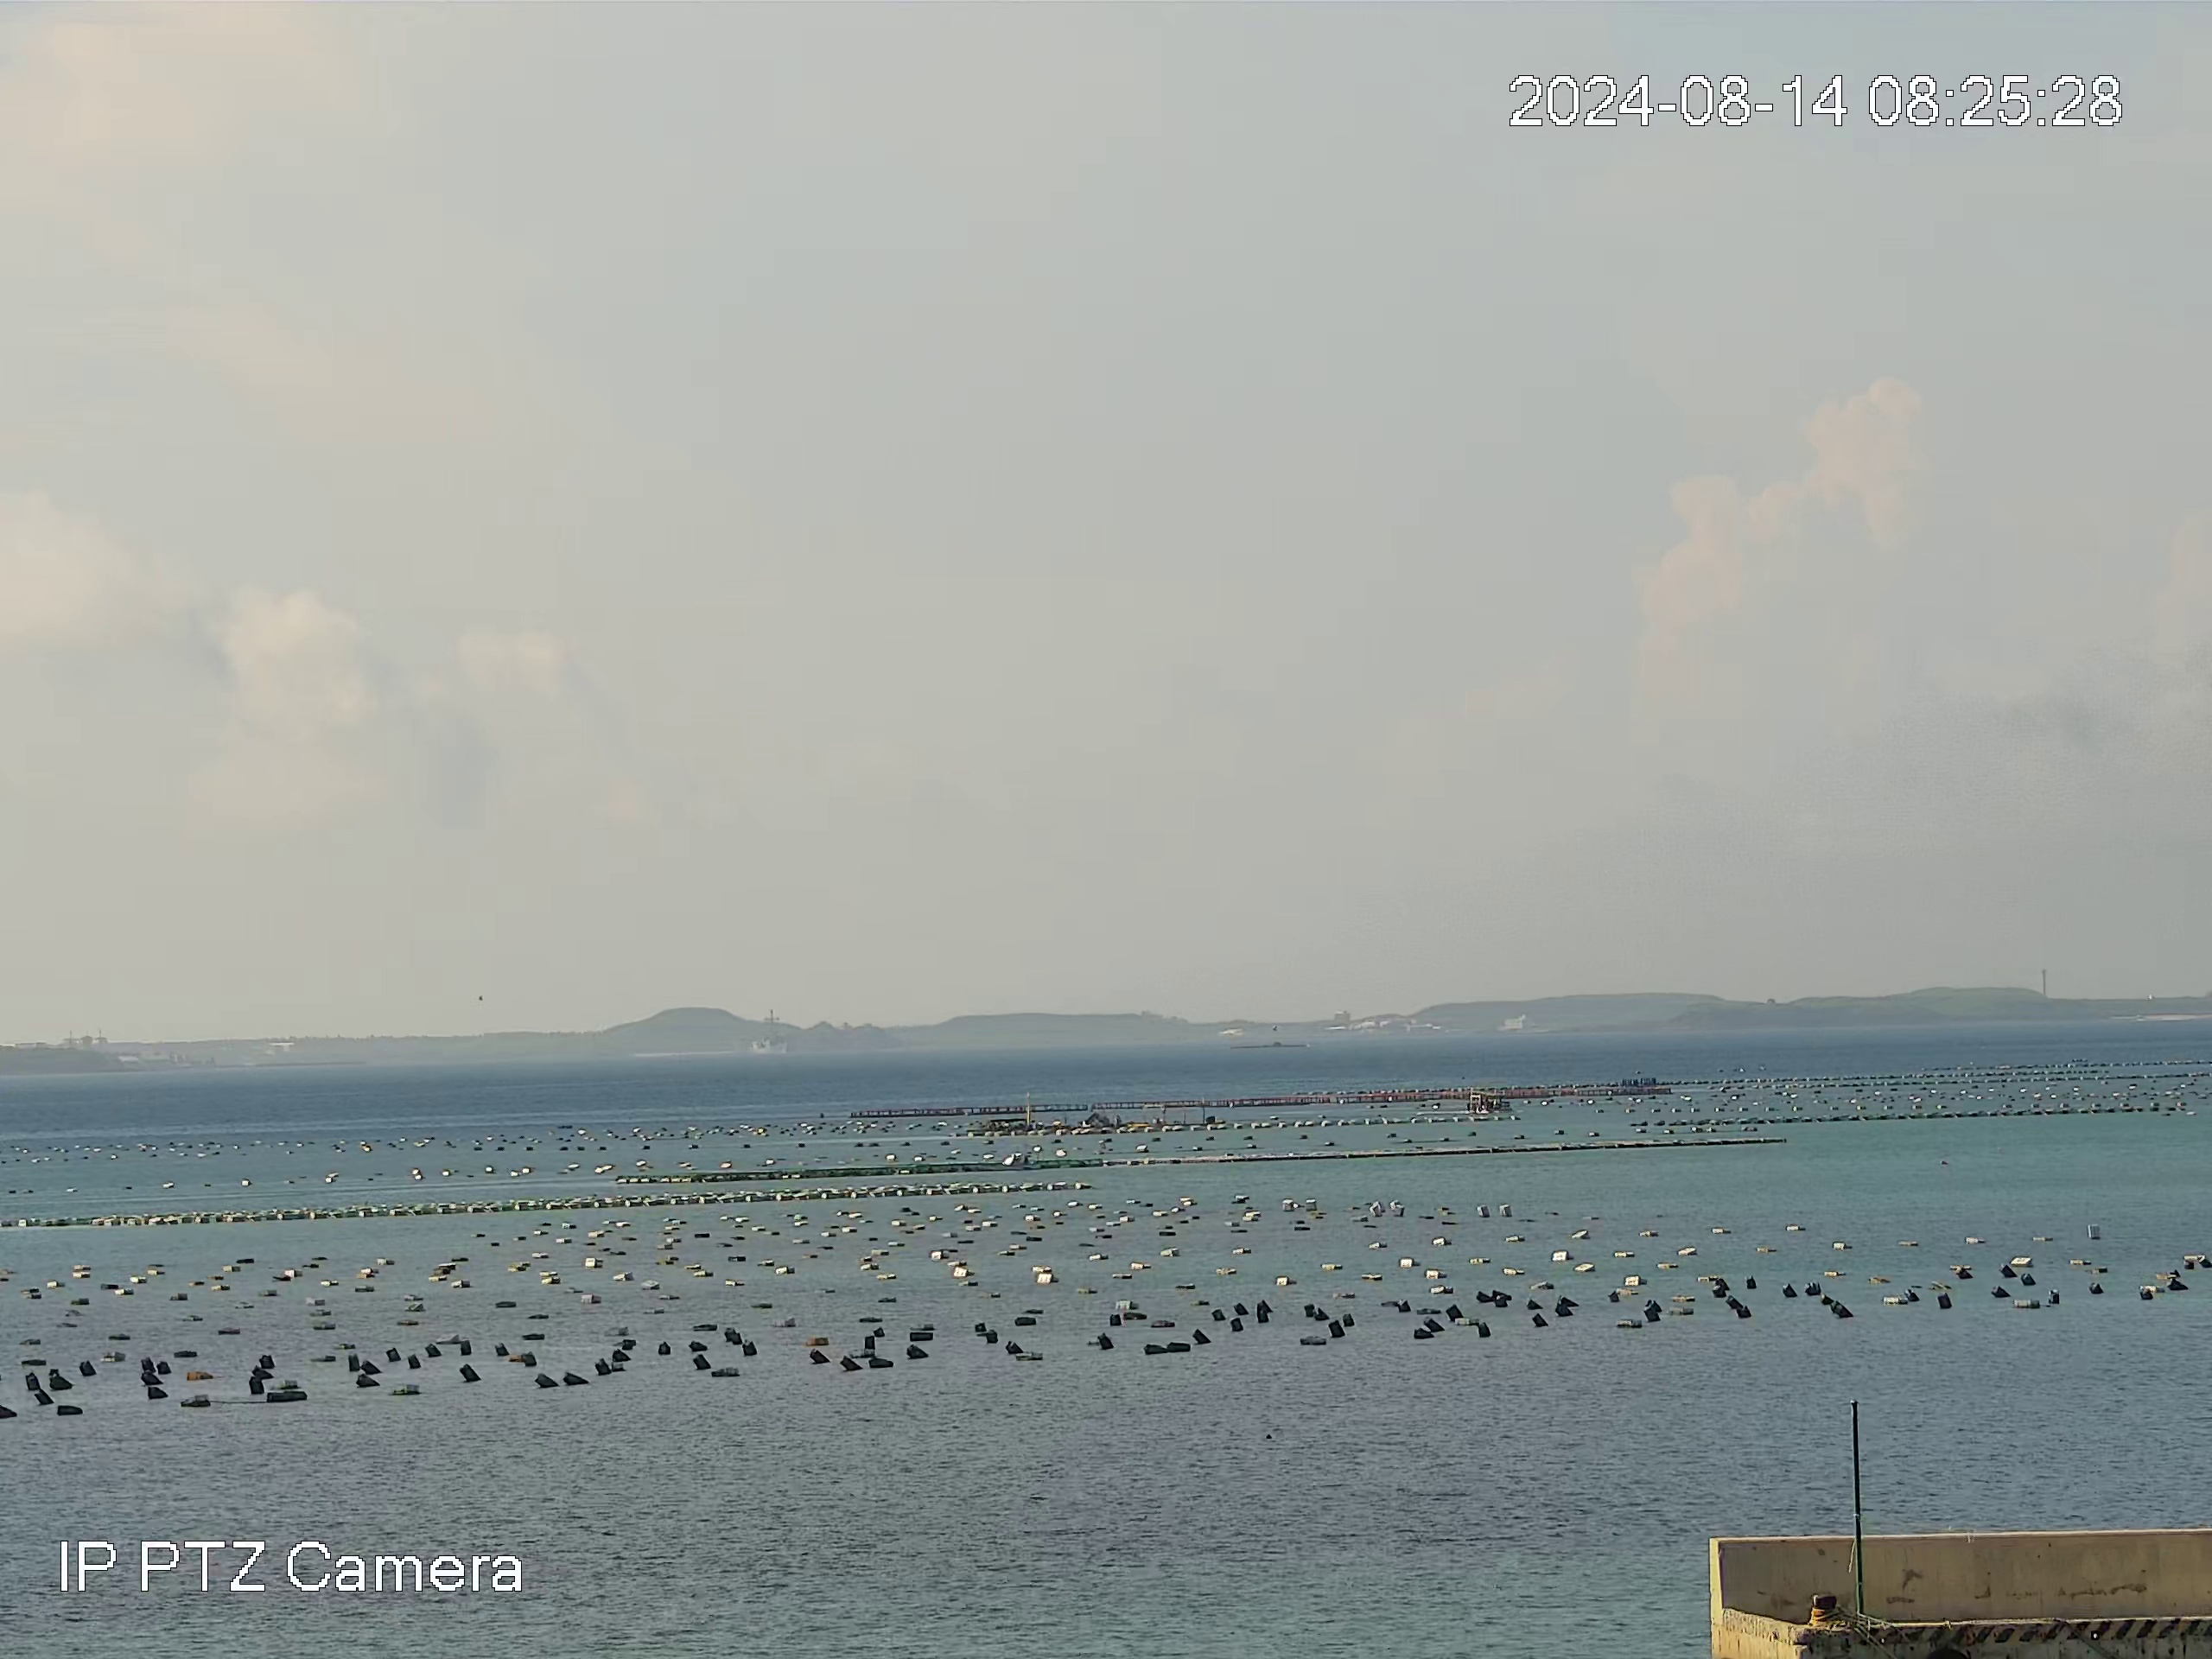boat: (1463, 1091, 1515, 1117)
